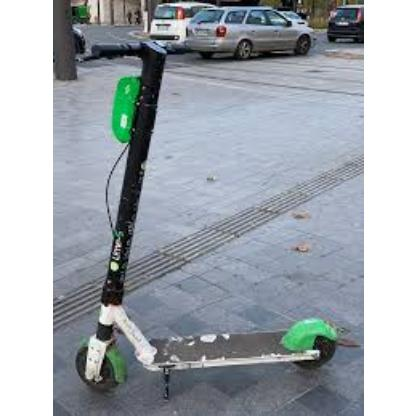bike: (74, 26, 354, 401)
car: (186, 6, 316, 61), (149, 1, 217, 54), (326, 5, 364, 44), (72, 25, 86, 56)
